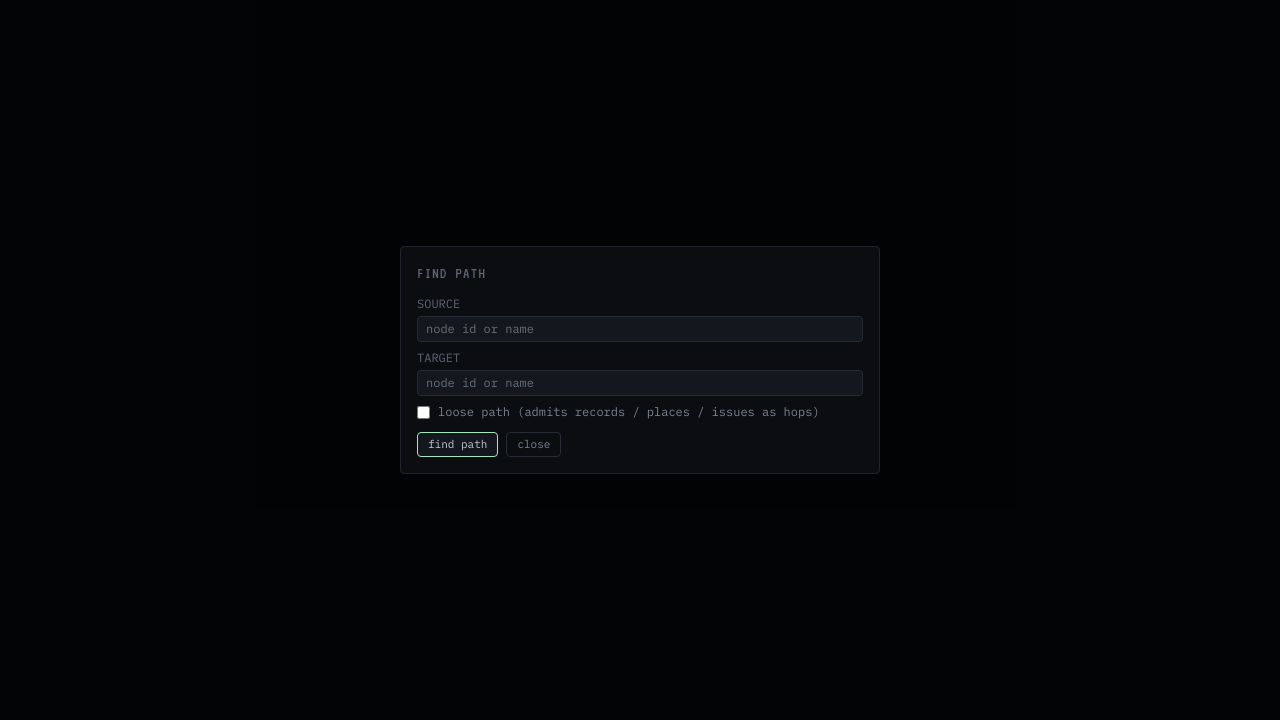
Scenario: PathDialog › shows loose-match tag when result.loose_match is true
The width and height of the screenshot is (1280, 720).
Type "a" into the field labelled "source" at (640, 329), box x1=417 y1=316 x2=863 y2=342
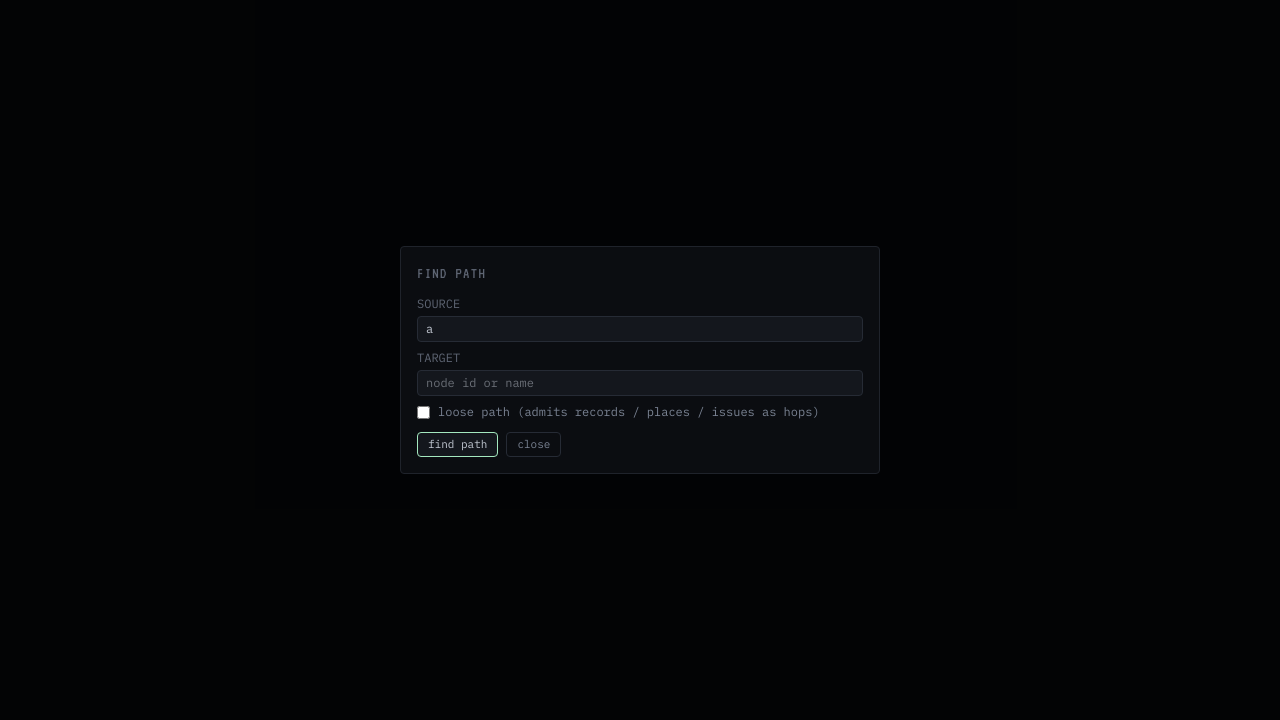
Type "b" into the field labelled "target" at (640, 383), box x1=417 y1=370 x2=863 y2=396
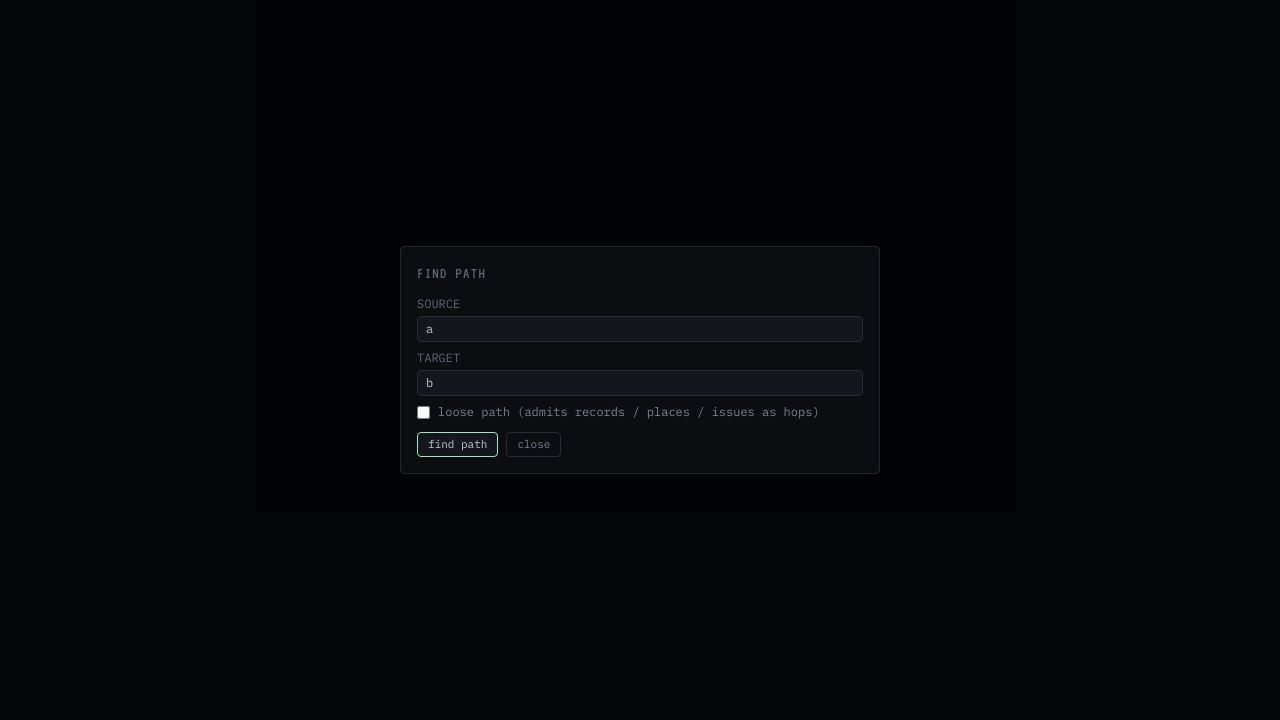
Click the button "find path" at (458, 445), box x1=417 y1=432 x2=498 y2=457
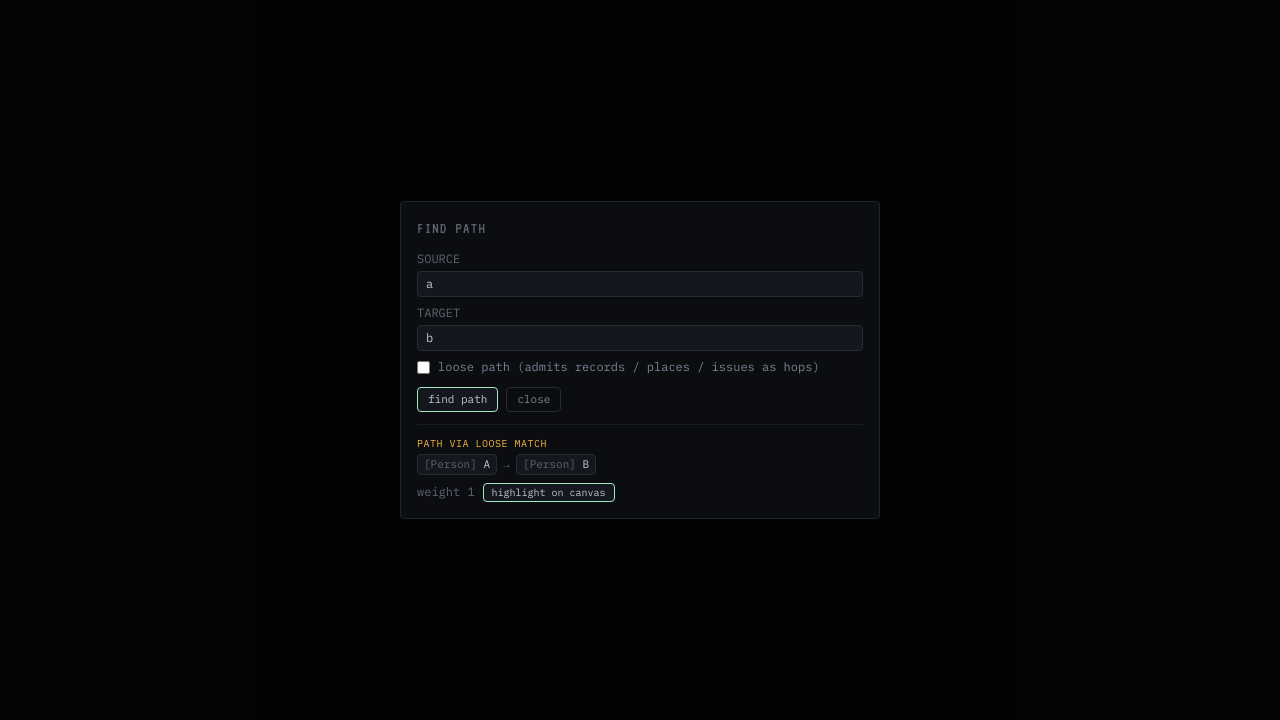
Expected: the text "PATH VIA LOOSE MATCH" is shown, x1=417 y1=437 x2=547 y2=450
